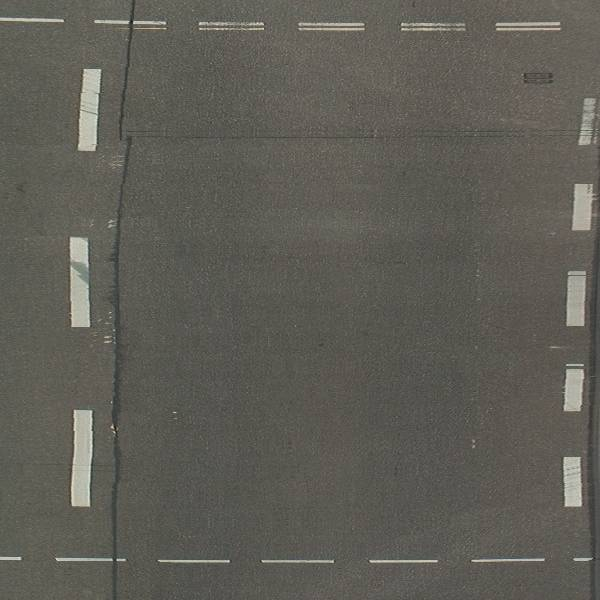road_damage: (126, 124, 575, 145)
